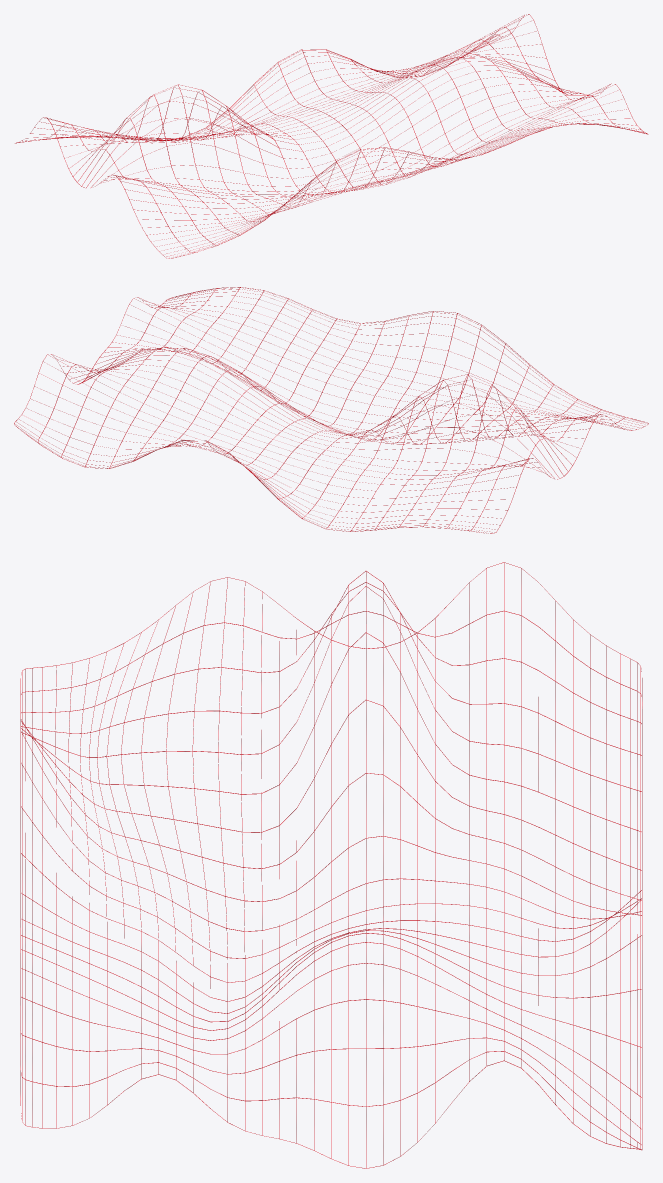
Rendered from deform_stripes5.gltf.
The picture shows the model from 3 angles, top to bottom: view 1: azimuth 30°, elevation 25°; view 2: azimuth 150°, elevation 25°; view 3: azimuth 270°, elevation 25°; orthographic projection. The views are drawn at different scales.
Visible parts, largest first — view 1: Plane; view 2: Plane; view 3: Plane.
Boxes of the visible parts, bbox=[...] form: Plane: bbox=[15, 14, 648, 258]; Plane: bbox=[14, 287, 648, 533]; Plane: bbox=[20, 562, 642, 1168].
Size of the model in its own units: 51.63 by 12.49 by 28.79.
